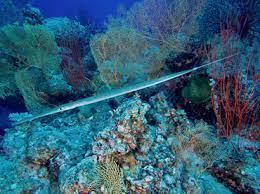Fistularia commersonii: (1, 46, 250, 120)
